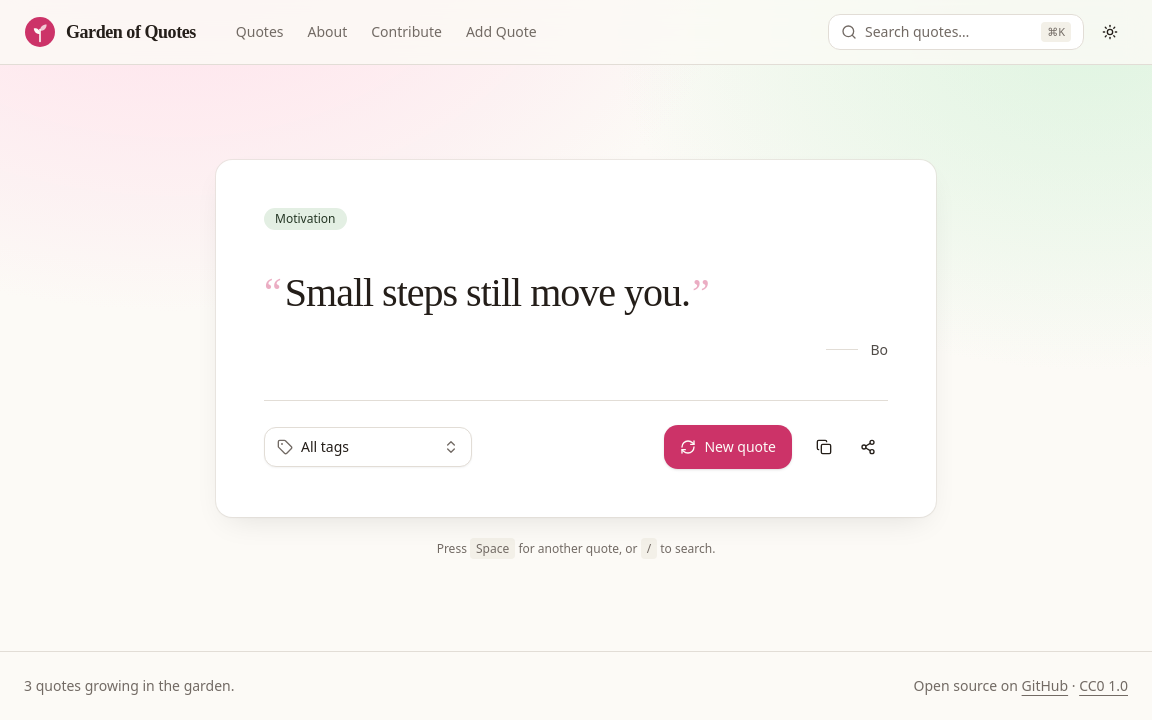
Test: App › finds a quote through the search palette
The image size is (1152, 720).
# "/" opens the search palette from anywhere on the page.
Type keys "/"
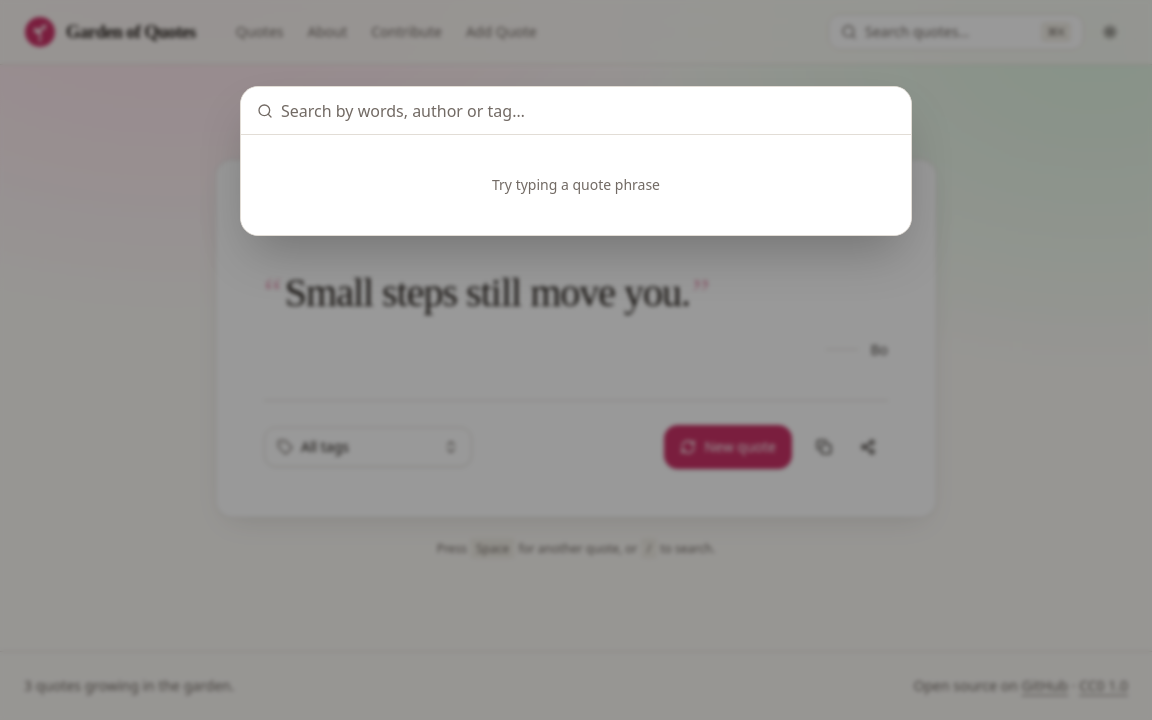
Type "curious" into the dropdown with placeholder "Search by words, author or tag…". click: {"x": 588, "y": 111}
box: [281,87,895,134]
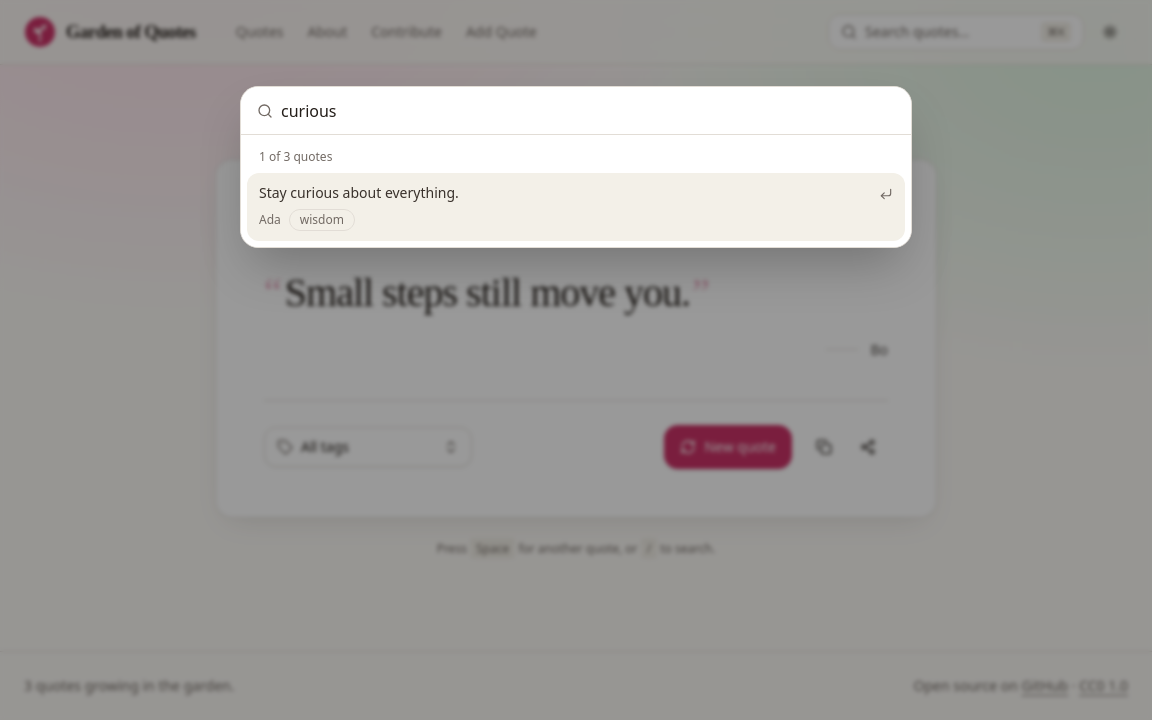
Click the option "Stay curious about everything. Ada wisdom". click: {"x": 359, "y": 193}
box: [247,173,905,241]
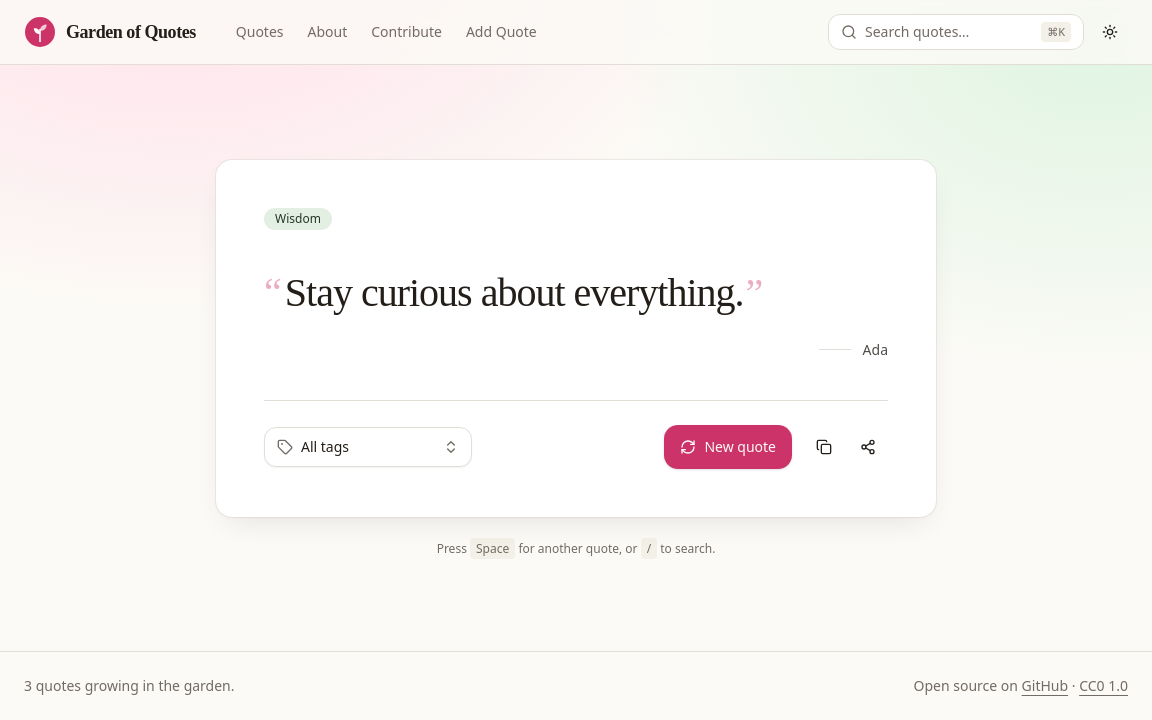
Check: the element showing "“Stay curious about everything.” Ada" is shown, box [264,270,888,360]
